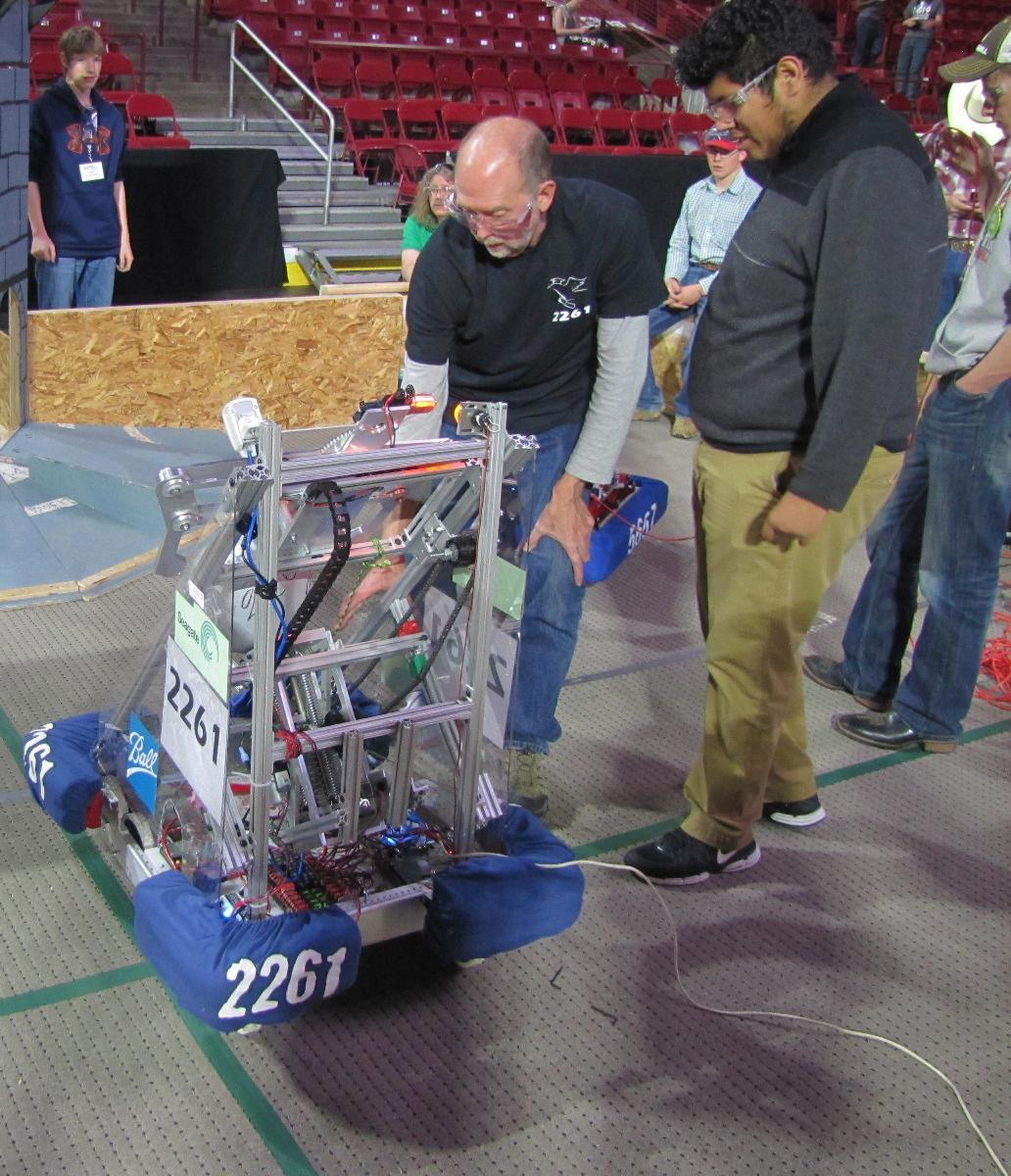robot: (21, 389, 609, 1049), (459, 444, 678, 591)
